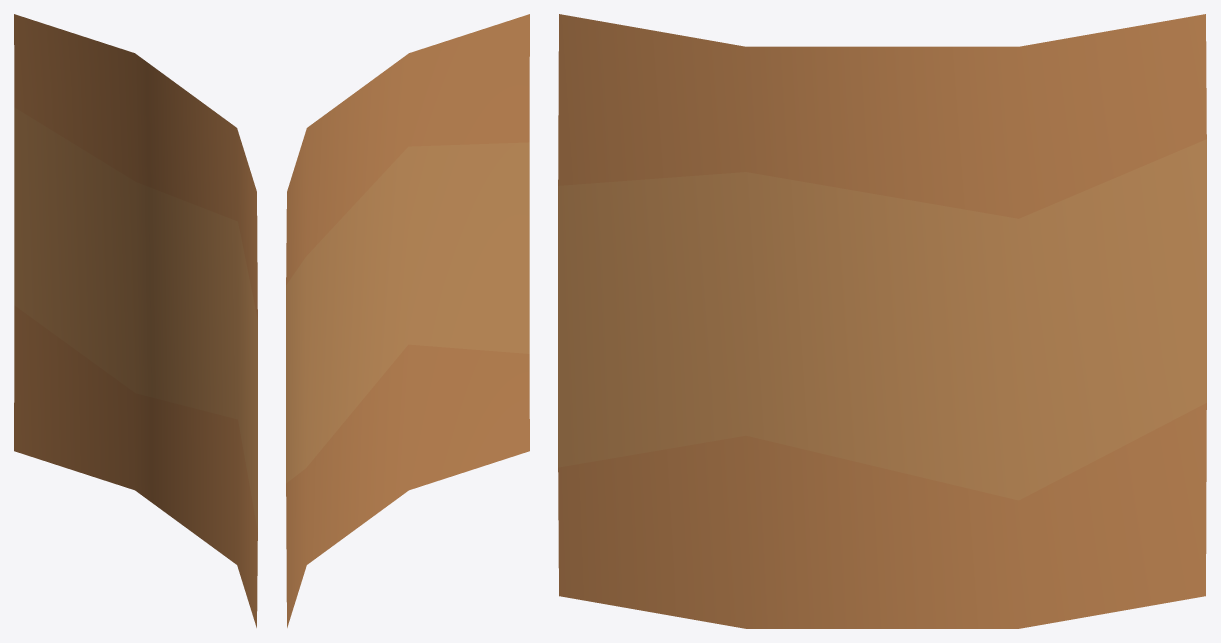
Rendered from blockTileSide.glb.
3 views of the same model, side by side, from view 1: azimuth 30°, elevation 25°; view 2: azimuth 150°, elevation 25°; view 3: azimuth 270°, elevation 25° (orthographic). The views are drawn at different scales.
Parts seen in each view (by area): view 1: blockTileSide; view 2: blockTileSide; view 3: blockTileSide.
Part boxes in pixels (left/top/right/bottom): blockTileSide: left=14, top=14, right=257, bottom=627; blockTileSide: left=286, top=14, right=529, bottom=627; blockTileSide: left=558, top=14, right=1206, bottom=628.
Bounding box in the file's own units: 0.1226 × 1 × 1.01.
Materials: 1 (1 with a texture image).
